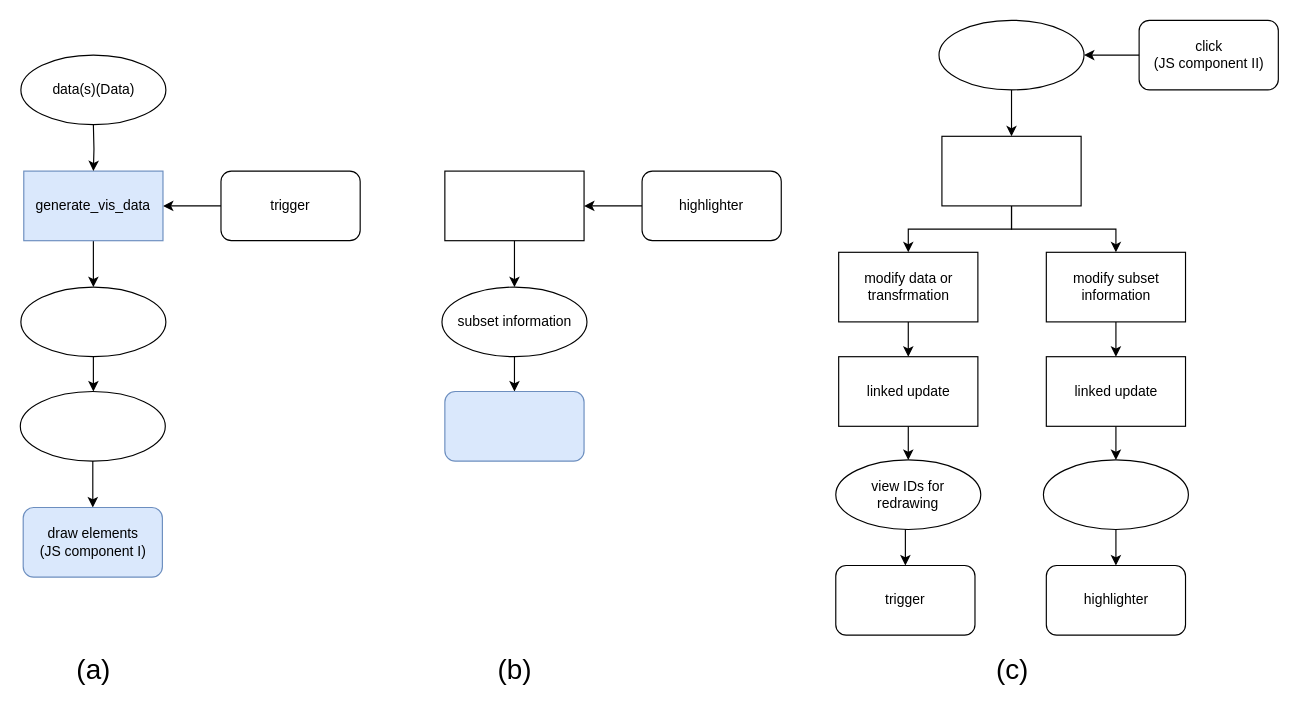
This 1299x713 diagram has some shape labels left out. The shapes that lost their labels are listed below. From the top down, each one's centre as x and y in pixels, then its label:
At point (1011, 54): "click_id".
At point (1011, 170): "click handler".
At point (514, 205): "highlight".
At point (93, 321): "vis_data(DataFrame)".
At point (92, 425): "r(json)".
At point (514, 425): "highlight elements (JS component III)".
At point (1115, 494): "view IDs for highlighting".
